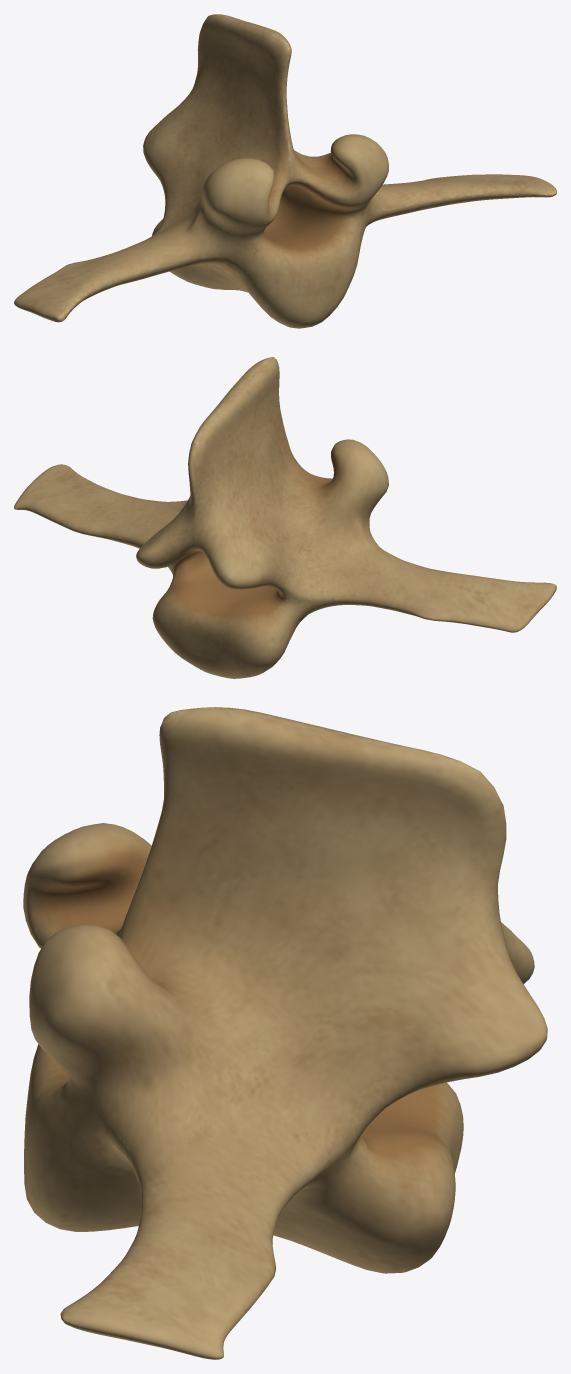
3 views of the same model, one above another, from view 1: azimuth 30°, elevation 25°; view 2: azimuth 150°, elevation 25°; view 3: azimuth 270°, elevation 25° (orthographic). The views are drawn at different scales.
Parts seen in each view (by area): view 1: ZBrush_defualt_group.001; view 2: ZBrush_defualt_group.001; view 3: ZBrush_defualt_group.001.
Boxes of the visible parts, x1=… form: ZBrush_defualt_group.001: x1=14, y1=14, x2=556, y2=328; ZBrush_defualt_group.001: x1=14, y1=357, x2=556, y2=678; ZBrush_defualt_group.001: x1=23, y1=707, x2=547, y2=1359.
Size of the model in its own units: 133 by 69.83 by 59.61.
1 material, 1 textured.
